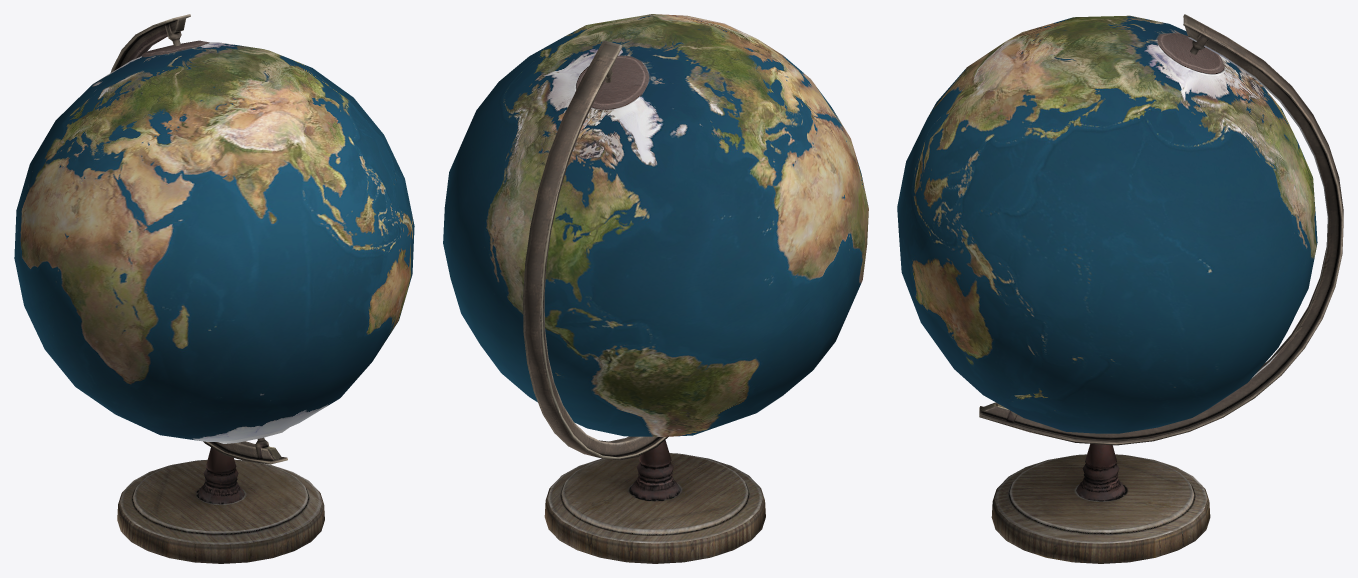
The model's file is Globe.fbx.
The picture shows the model from 3 angles, left to right: view 1: azimuth 30°, elevation 25°; view 2: azimuth 150°, elevation 25°; view 3: azimuth 270°, elevation 25°; orthographic projection. The views are drawn at different scales.
Visible parts, largest first — view 1: Globe; view 2: Globe; view 3: Globe.
Boxes of the visible parts, x1,y1,x2,y2 form: Globe: (14, 14, 414, 563); Globe: (443, 14, 868, 563); Globe: (897, 14, 1343, 563).
Bounding box in the file's own units: 26.17 × 34.4 × 27.87.
Materials: 1 (1 with a texture image).
